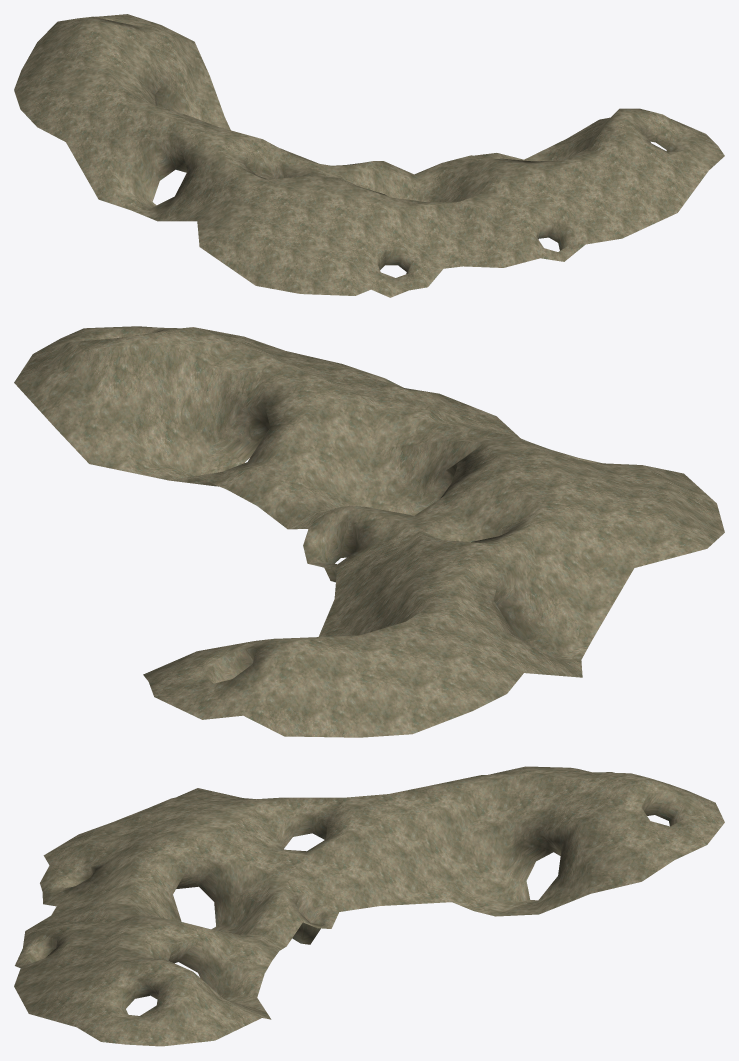
Rendered from EKH_JAIL_PS_JA_JAIL_ROOF03938.fbx.
3 renders of one model, top to bottom at view 1: azimuth 30°, elevation 25°; view 2: azimuth 150°, elevation 25°; view 3: azimuth 270°, elevation 25°, orthographic. The views are drawn at different scales.
Visible parts, largest first — view 1: EKH_JAIL_PS_JA_JAIL_ROOF03938; view 2: EKH_JAIL_PS_JA_JAIL_ROOF03938; view 3: EKH_JAIL_PS_JA_JAIL_ROOF03938.
Part boxes in pixels (x1=…): EKH_JAIL_PS_JA_JAIL_ROOF03938: x1=14, y1=14, x2=724, y2=297; EKH_JAIL_PS_JA_JAIL_ROOF03938: x1=14, y1=326, x2=724, y2=737; EKH_JAIL_PS_JA_JAIL_ROOF03938: x1=14, y1=766, x2=724, y2=1046.
Bounding box in the file's own units: 277486 × 51545 × 308349.
Materials: 1 (1 with a texture image).
